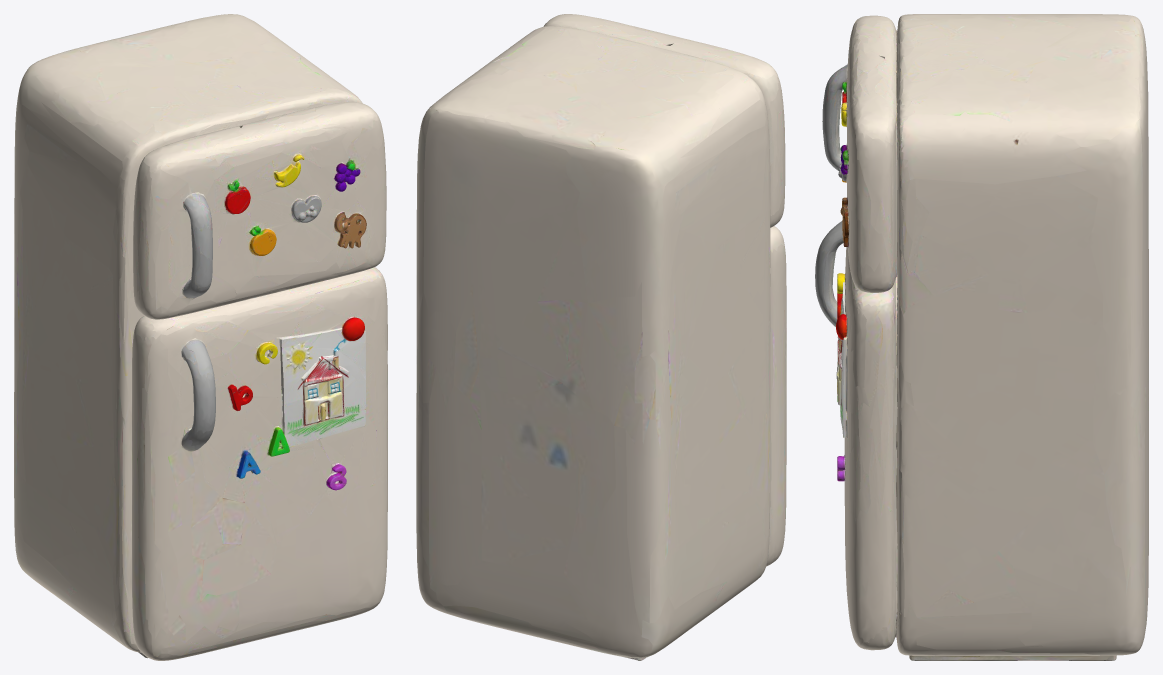
The model's file is fridge.glb.
The picture shows the model from 3 angles, left to right: view 1: azimuth 30°, elevation 25°; view 2: azimuth 150°, elevation 25°; view 3: azimuth 270°, elevation 25°; orthographic projection. The views are drawn at different scales.
Bounding box in the file's own units: 0.9555 × 1.9 × 1.04.
1 material, 1 textured.
